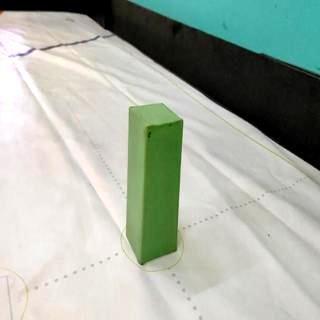greenbox: (127, 102, 186, 266)
